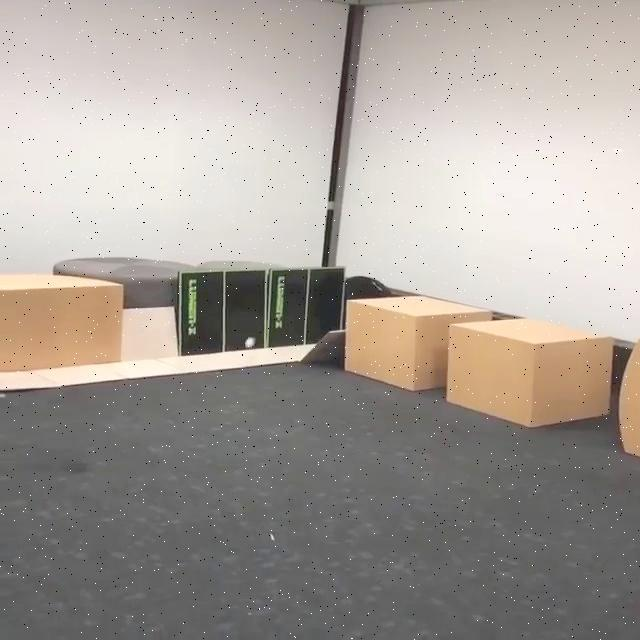golf ball: (245, 337, 257, 349)
